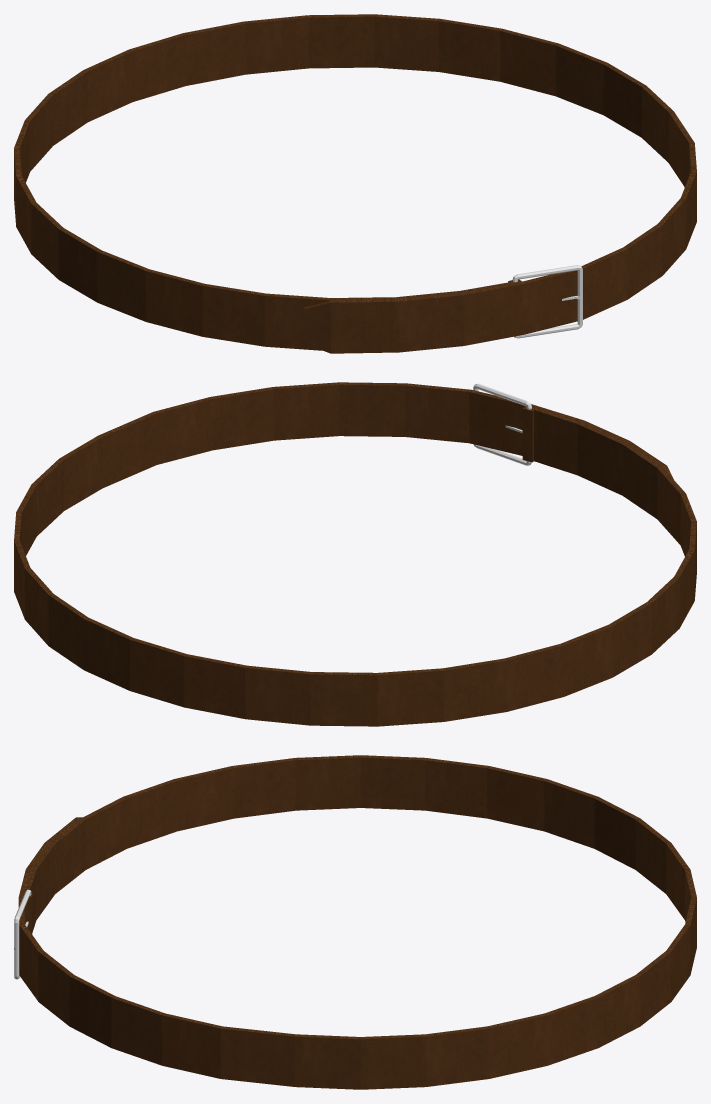
Rendered from BeltDD1.fbx.
The picture shows the model from 3 angles, top to bottom: view 1: azimuth 30°, elevation 25°; view 2: azimuth 150°, elevation 25°; view 3: azimuth 270°, elevation 25°; orthographic projection.
Visible parts, largest first — view 1: Cylinder, Metal; view 2: Cylinder, Metal; view 3: Cylinder, Metal.
Boxes of the visible parts, x1=… form: Cylinder: x1=14, y1=14, x2=696, y2=353; Metal: x1=512, y1=265, x2=582, y2=338; Cylinder: x1=14, y1=382, x2=696, y2=726; Metal: x1=473, y1=383, x2=531, y2=465; Cylinder: x1=18, y1=755, x2=696, y2=1089; Metal: x1=14, y1=889, x2=31, y2=979.
Size of the model in its own units: 120 by 12.37 by 122.
2 materials, 1 textured.
